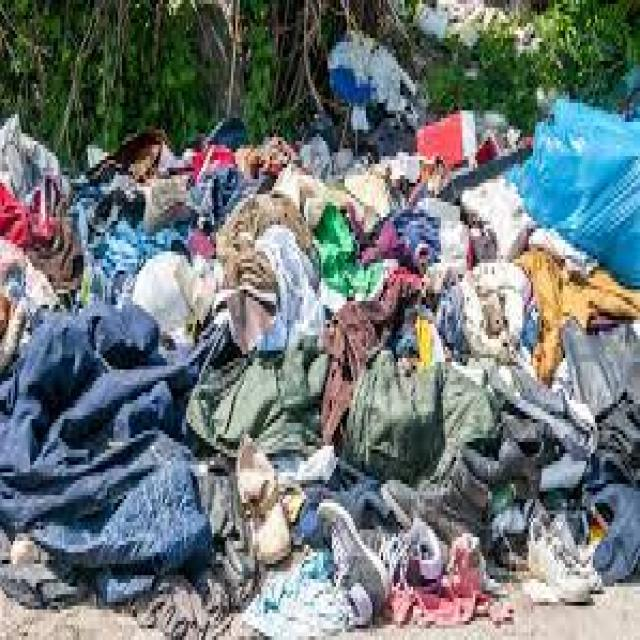Clothes -Biodegradable-: (0, 104, 640, 640)
Plastic -Non-Biodegradable but Recyclable-: (518, 98, 640, 281)
